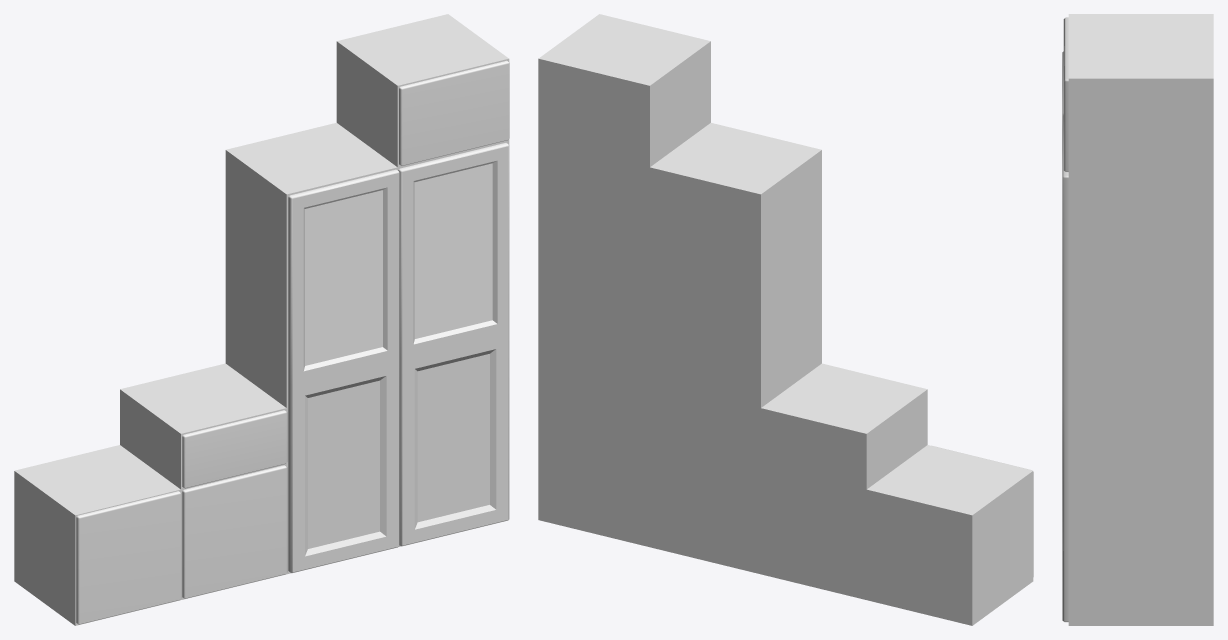
File: cupboard_009.fbx
3 views of the same model, side by side, from view 1: azimuth 30°, elevation 25°; view 2: azimuth 150°, elevation 25°; view 3: azimuth 270°, elevation 25° (orthographic). The views are drawn at different scales.
Parts seen in each view (by area): view 1: cupboard_009; view 2: cupboard_009; view 3: cupboard_009.
Boxes of the visible parts, left/top/right/bottom form: cupboard_009: left=14, top=14, right=509, bottom=625; cupboard_009: left=538, top=14, right=1033, bottom=625; cupboard_009: left=1062, top=14, right=1213, bottom=625.
Size of the model in its own units: 307 by 78.13 by 312.
